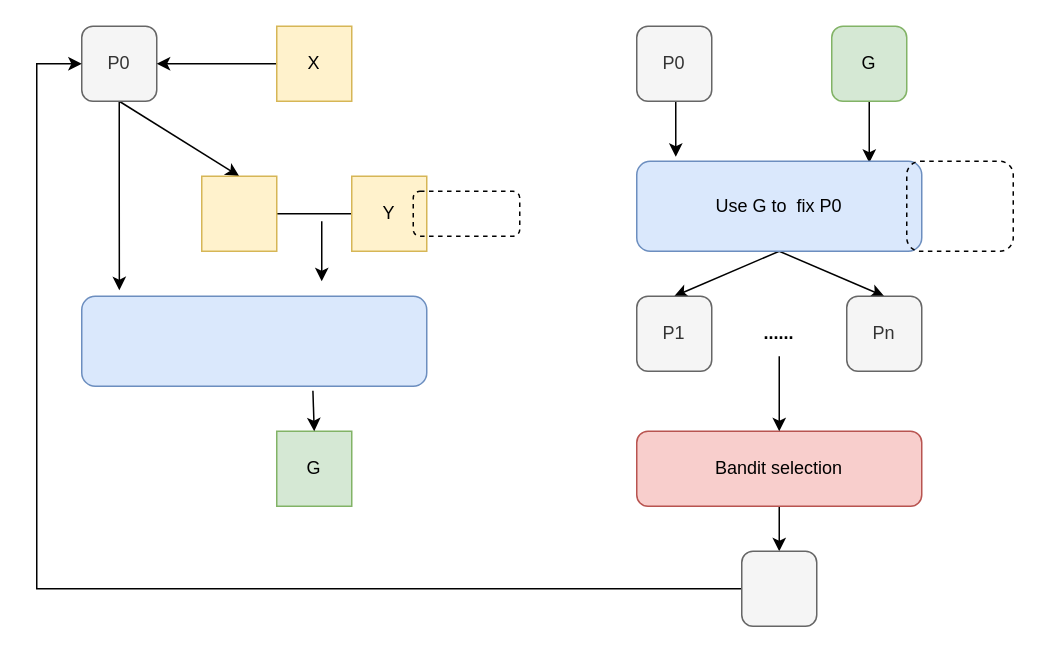
The diagram is 1040 pixels wide and 653 high, and some of its shapes have lost their labels. The shapes that lost their labels are listed below. From the top down, each one's centre as x and y in pixels, then its label:
At (x=238, y=213): "Y *".
At (x=466, y=213): "FeedBack".
At (x=959, y=205): "Thinging Tools".
At (x=253, y=340): "What is wrong with P0?".
At (x=778, y=588): "P*".
